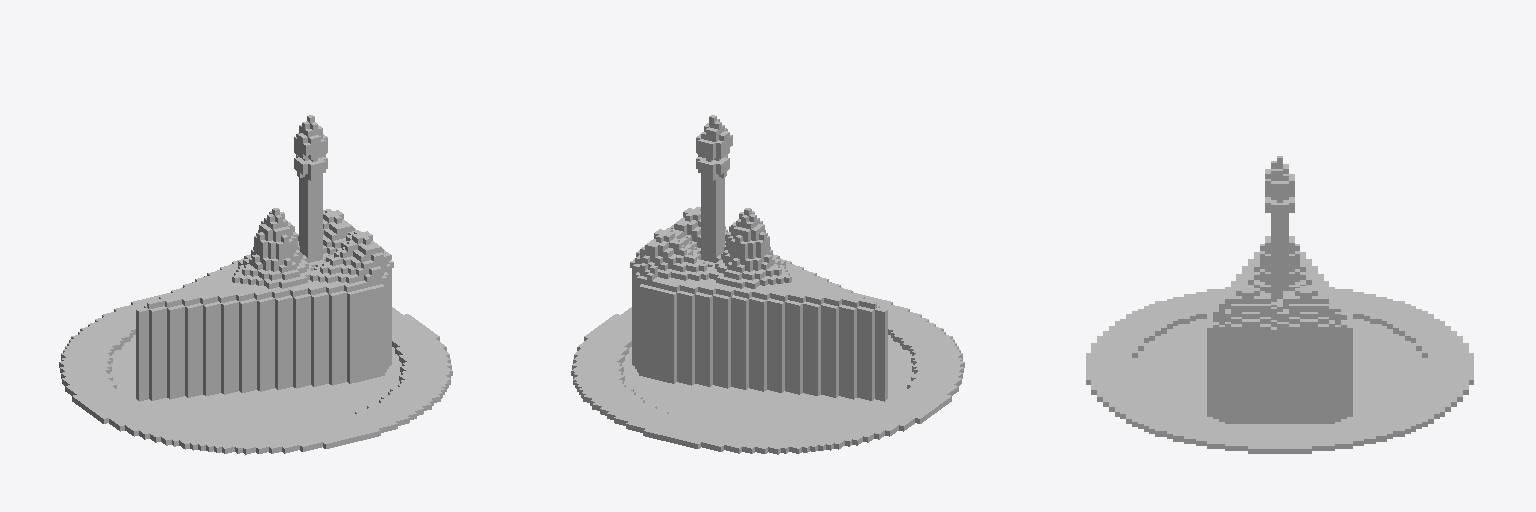
File: cake 1.obj
3 renders of one model, left to right at view 1: azimuth 30°, elevation 25°; view 2: azimuth 150°, elevation 25°; view 3: azimuth 270°, elevation 25°, orthographic.
Parts seen in each view (by area): view 1: object 1; view 2: object 1; view 3: object 1.
Boxes of the visible parts, box(x1,y1,x2,y2) form: object 1: box(59, 115, 452, 454); object 1: box(571, 115, 964, 454); object 1: box(1086, 156, 1473, 453).
Bounding box in the file's own units: 6.7 × 4.8 × 6.7.